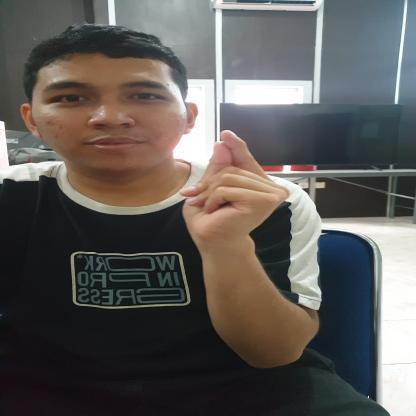R: (162, 130, 290, 258)
